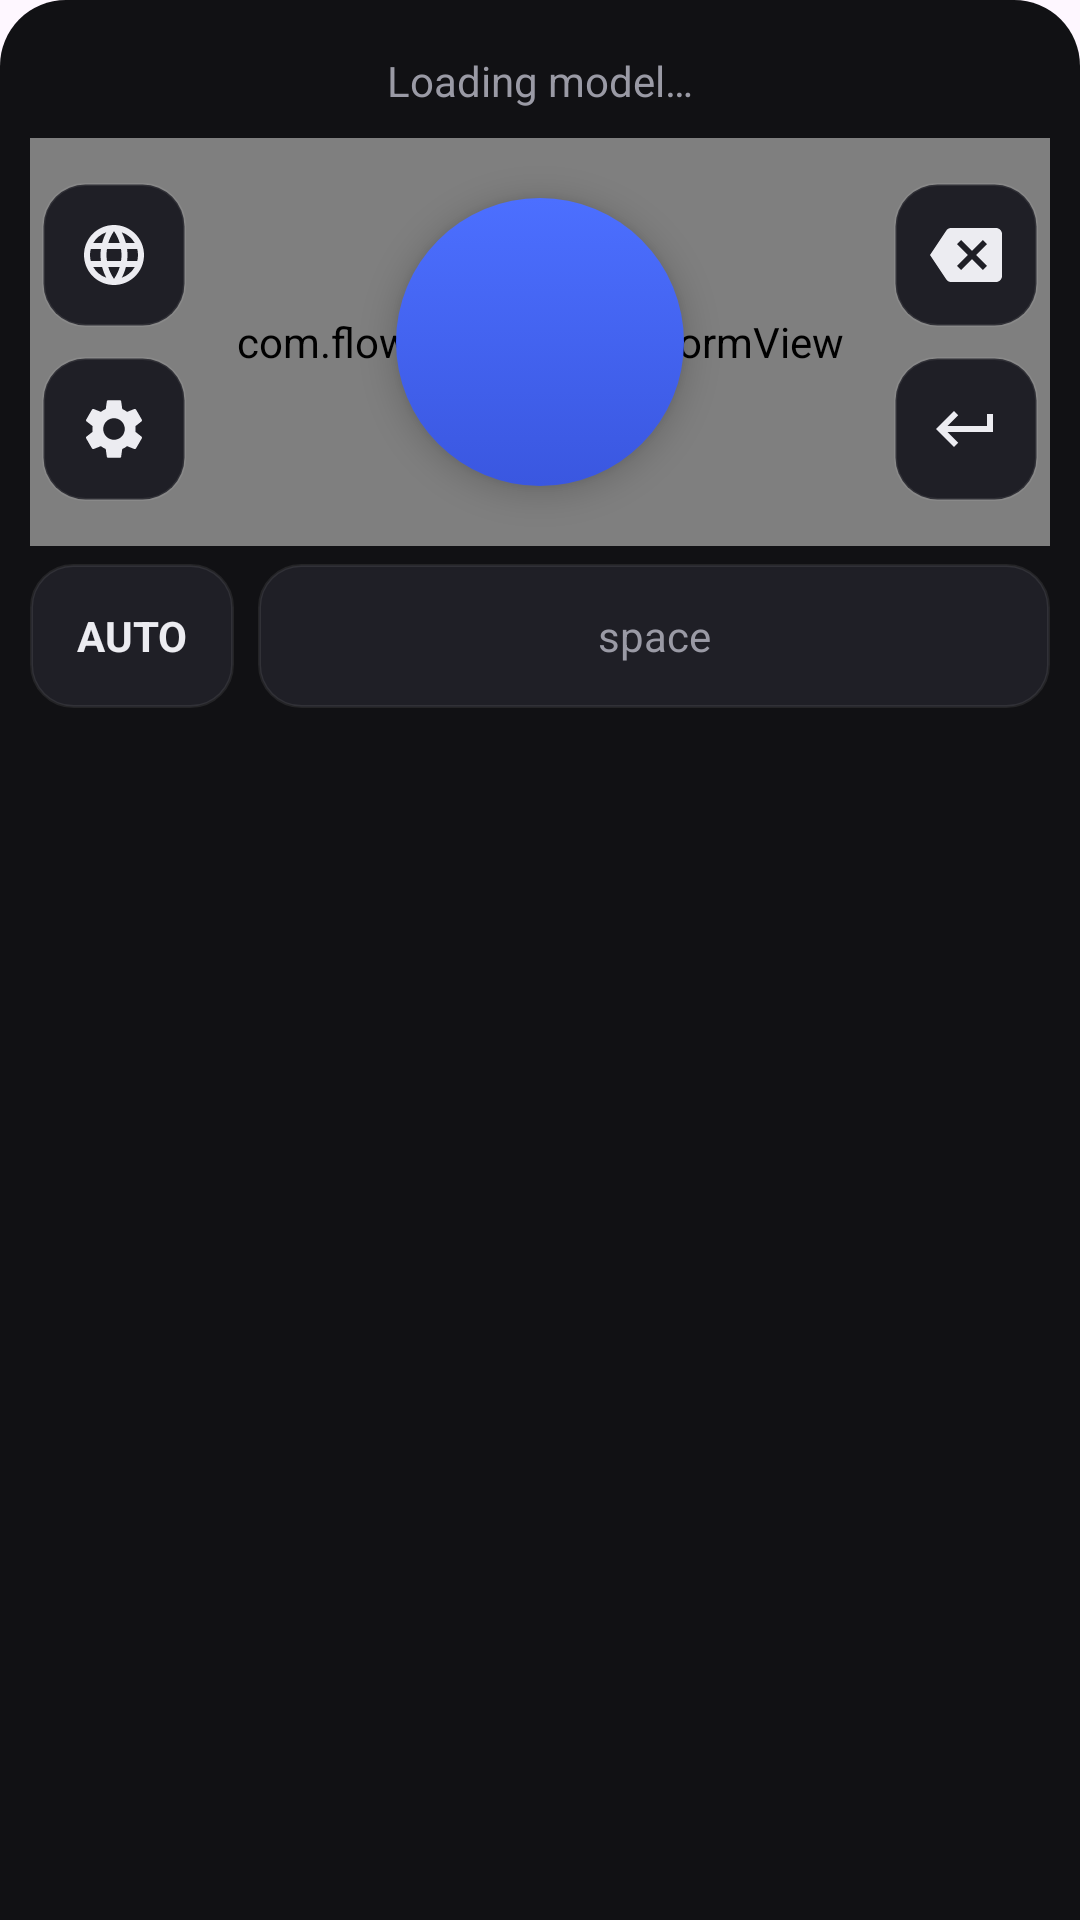

Where to tap for icons on this 1080*1920 app screen, as point (x, y):
Backspace: point (966, 255)
Enter: point (966, 429)
Open FlowKey setup: point (114, 429)
Switch keyboard: point (114, 255)
